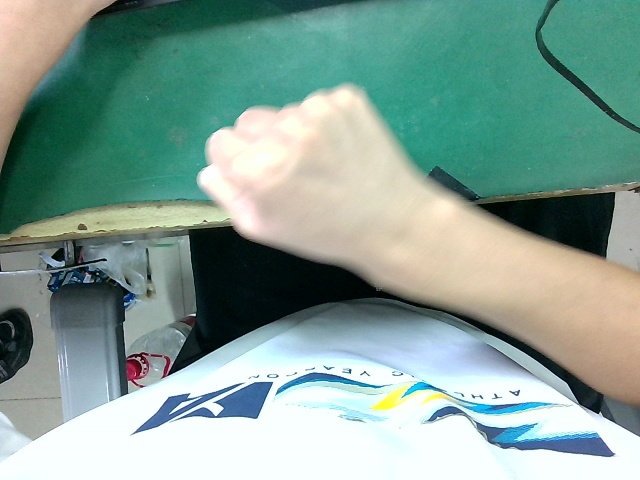stone: (184, 72, 454, 297)
